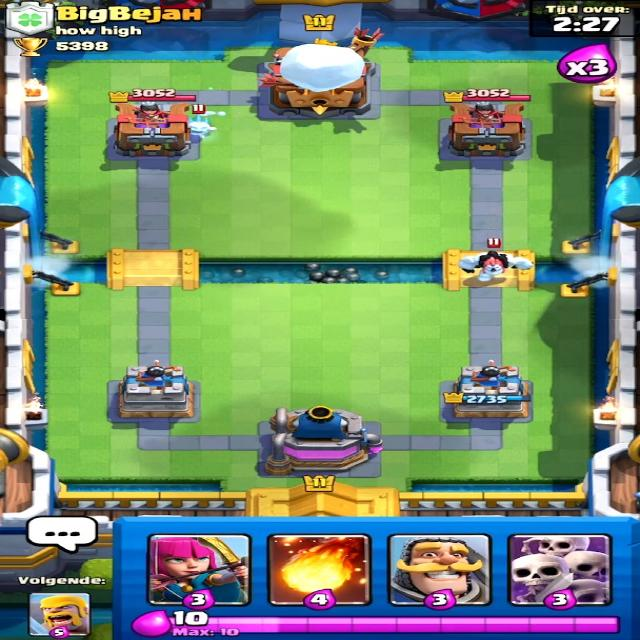Enemy_Ice_Golem_Troop: (453, 250, 533, 282)
Enemy_Ice_Spirit_Troop: (182, 115, 230, 136)
Enemy_Snowball_Troop: (268, 44, 384, 95)
Fireball_Card: (270, 535, 376, 601)
